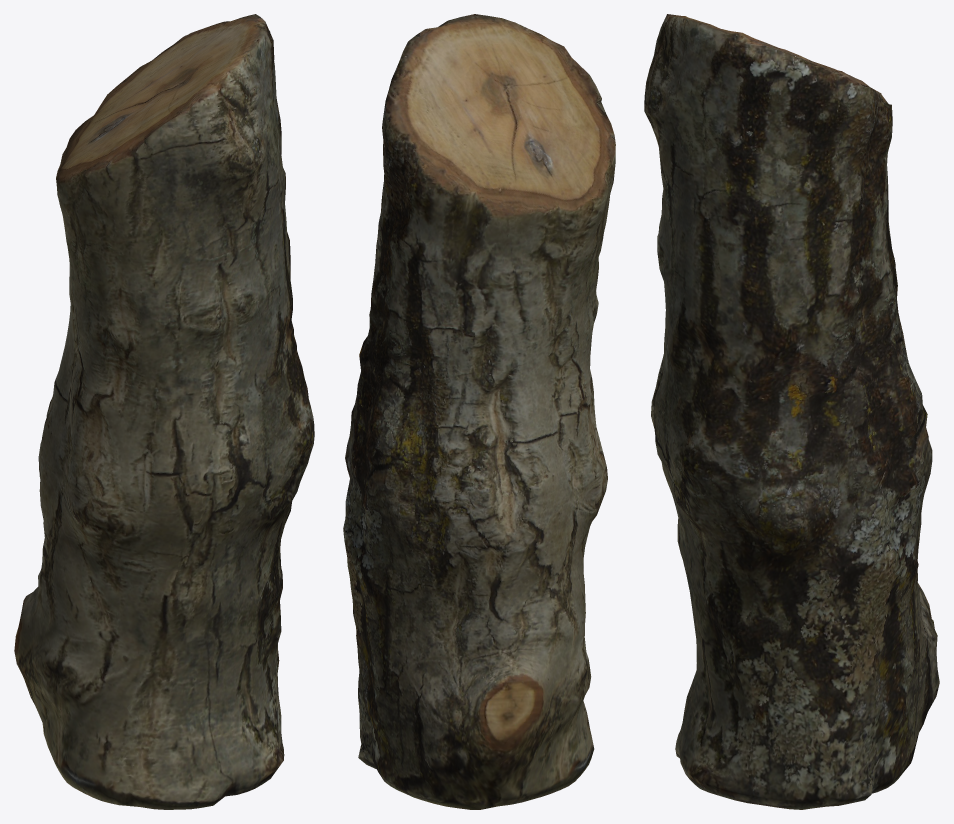
File: logscan01.fbx
3 renders of one model, left to right at view 1: azimuth 30°, elevation 25°; view 2: azimuth 150°, elevation 25°; view 3: azimuth 270°, elevation 25°, orthographic. The views are drawn at different scales.
Visible parts, largest first — view 1: LogScan02_small.001; view 2: LogScan02_small.001; view 3: LogScan02_small.001.
Boxes of the visible parts, x1=… form: LogScan02_small.001: x1=14, y1=14, x2=314, y2=809; LogScan02_small.001: x1=343, y1=14, x2=615, y2=809; LogScan02_small.001: x1=644, y1=14, x2=939, y2=809.
Size of the model in its own units: 25.76 by 71.5 by 25.12.
